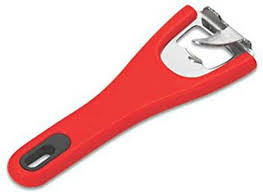bottleopener: (7, 3, 259, 188)
